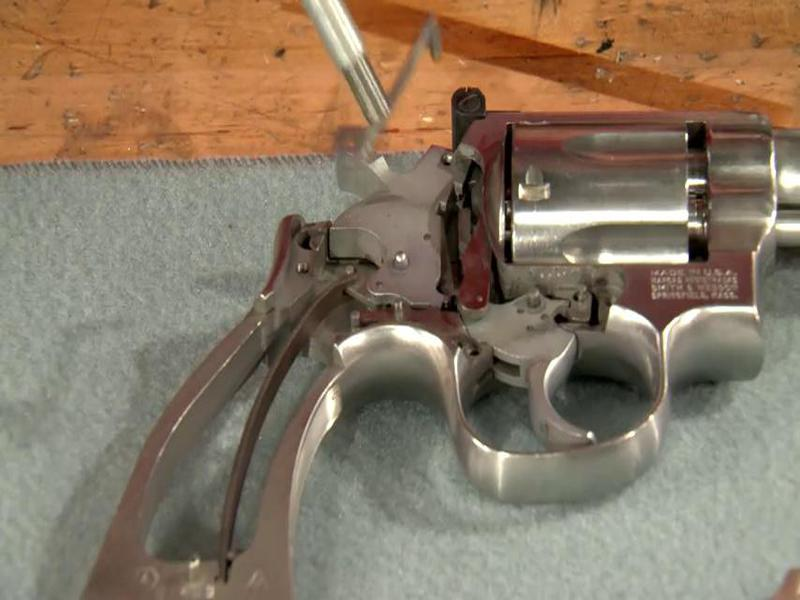Revolver: (39, 79, 800, 560)
